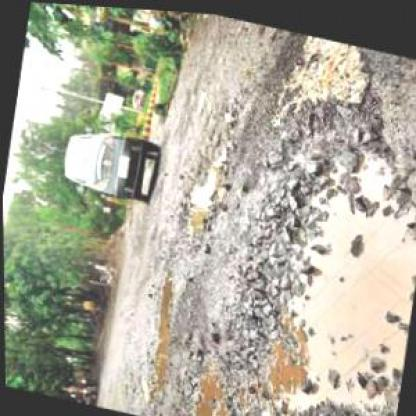pothole: (169, 133, 233, 240), (139, 266, 187, 392)
